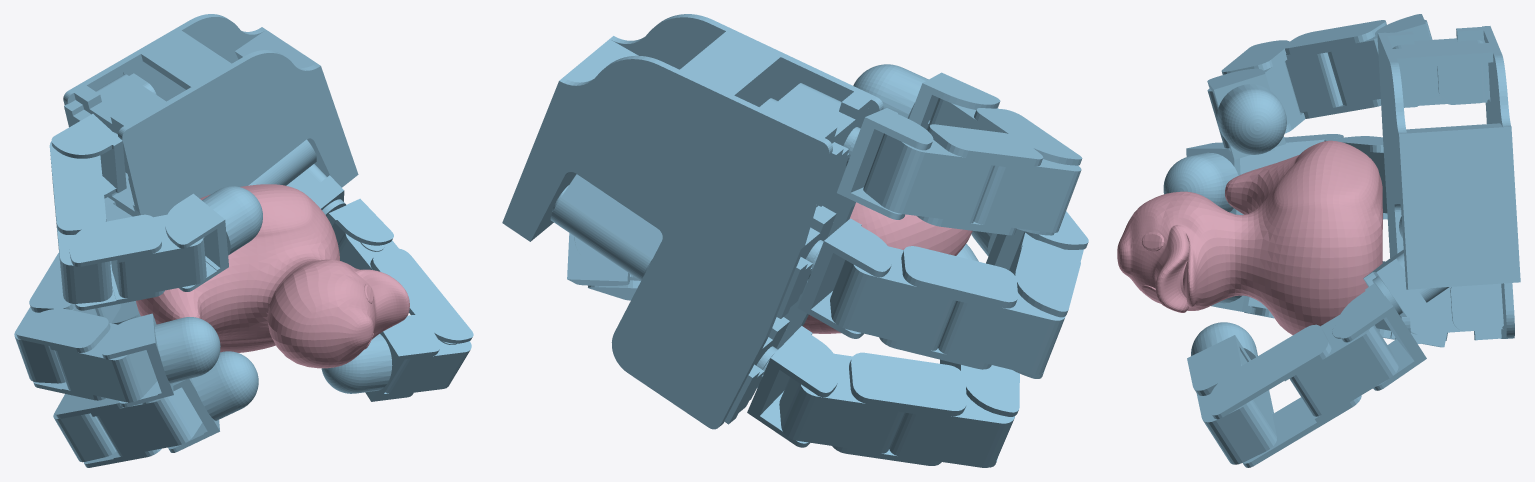
3 views of the same model, side by side, from view 1: azimuth 30°, elevation 25°; view 2: azimuth 150°, elevation 25°; view 3: azimuth 270°, elevation 25° (orthographic). The views are drawn at different scales.
Visible parts, largest first — view 1: world; view 2: world; view 3: world.
Boxes of the visible parts, x1,y1,x2,y2 form: world: [14, 14, 473, 467]; world: [502, 14, 1088, 467]; world: [1117, 14, 1520, 467].
Bounding box in the file's own units: 0.1845 × 0.1488 × 0.1457.
